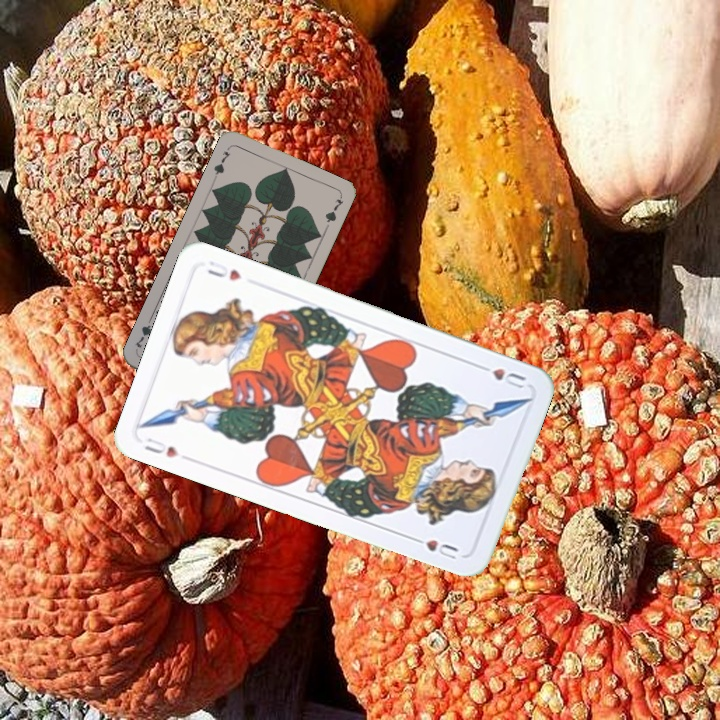G7: (209, 147, 233, 181)
HU: (473, 359, 529, 391), (140, 434, 182, 460)
